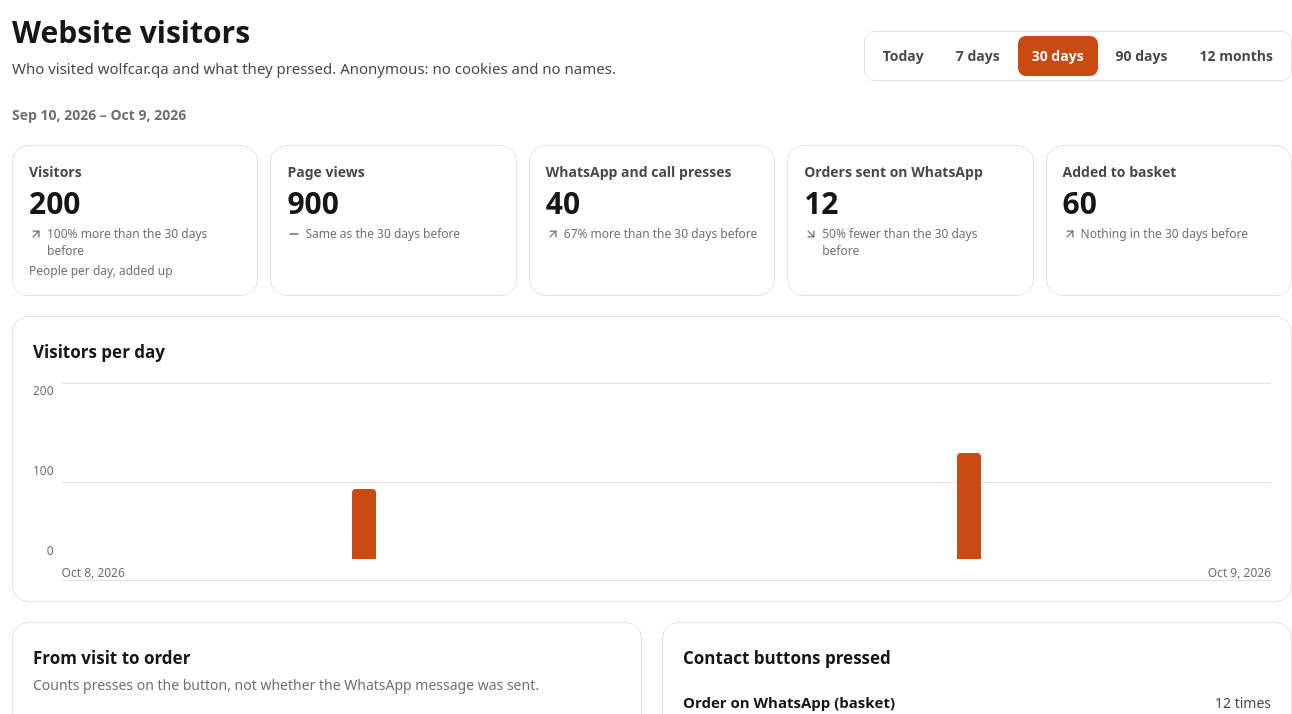
Test: website visitors page › offers the daily numbers as a table and on hover
Hover over the 6th button at (364, 524), box [62,383,666,559]
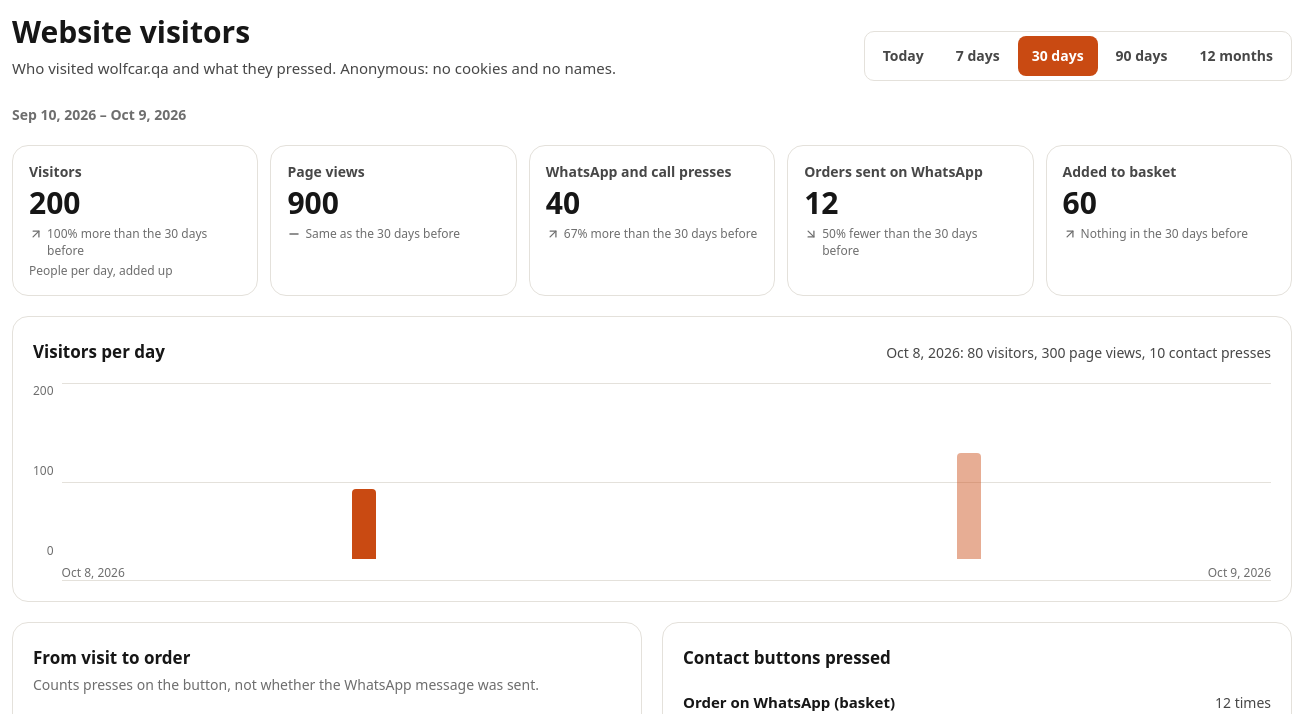
Result: the element "Visitors per day" shows "Oct 8, 2026: 80 visitors, 300 page views, 10 contact presses" at [886,343,1271,362]
